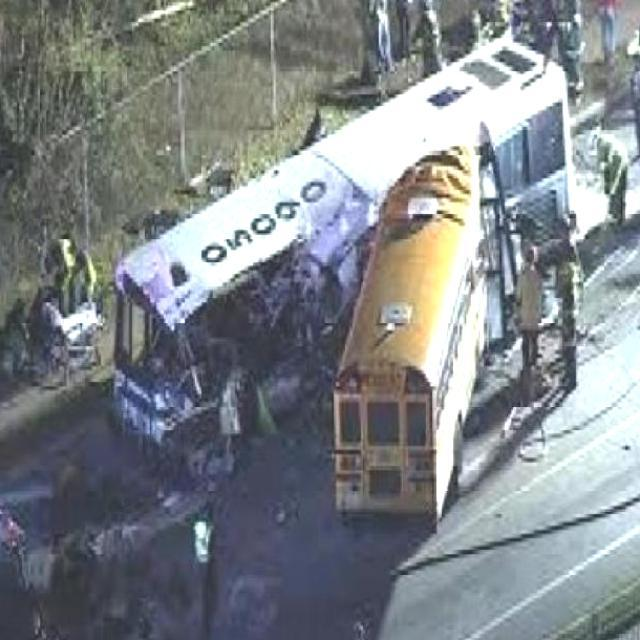accident: (206, 138, 470, 450)
